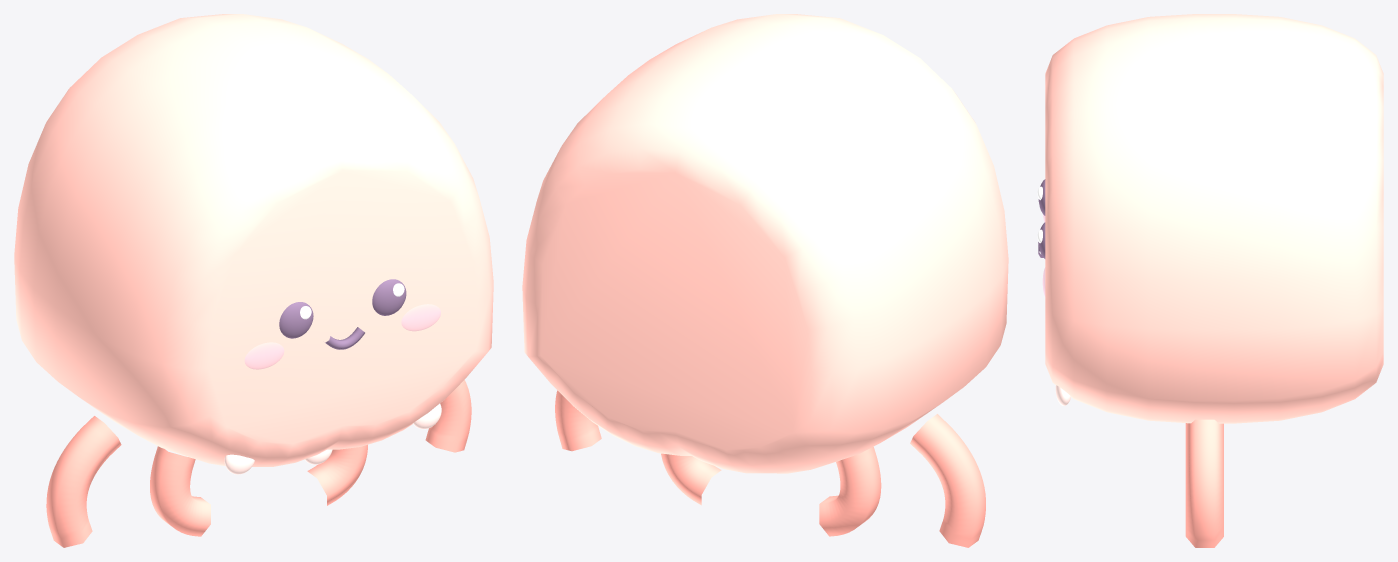
The model's file is squishy_octopus.glb.
3 renders of one model, left to right at view 1: azimuth 30°, elevation 25°; view 2: azimuth 150°, elevation 25°; view 3: azimuth 270°, elevation 25°, orthographic. The views are drawn at different scales.
Visible parts, largest first — view 1: octopus; view 2: octopus; view 3: octopus.
Boxes of the visible parts, x1=… form: octopus: x1=14, y1=14, x2=493, y2=547; octopus: x1=522, y1=14, x2=1008, y2=547; octopus: x1=1037, y1=14, x2=1383, y2=547.
Bounding box in the file's own units: 0.9336 × 1 × 0.7087.
